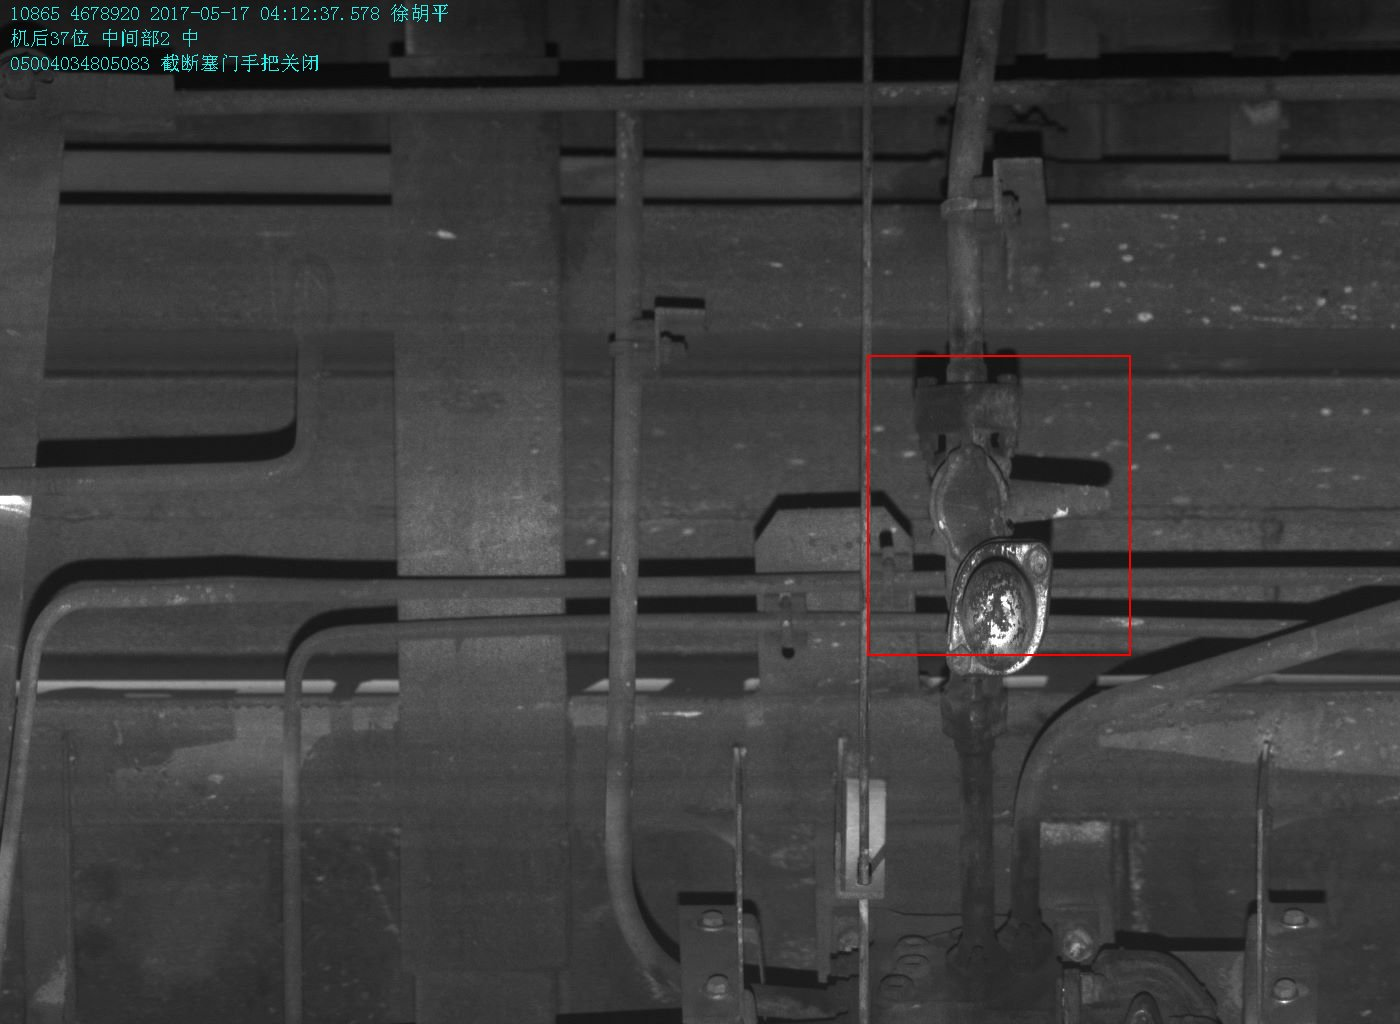truncated plug door handle: (924, 448, 1115, 558)
